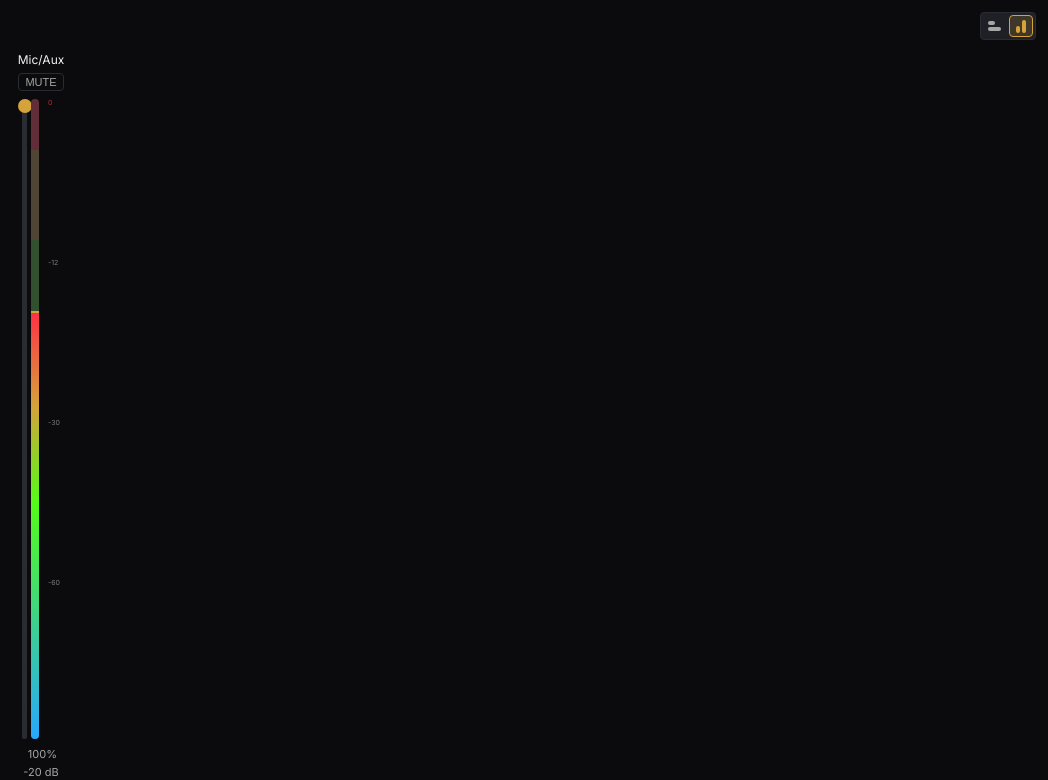
Test: AudioMixer › defaults to vertical faders and switches between vertical and horizontal layouts
Expected: the element named "Mic/Aux vertical meter -20 dB" is shown, [31,99,39,739]
Click the button named "Horizontal audio meters". click: {"x": 995, "y": 26}
box: [983,15,1007,37]
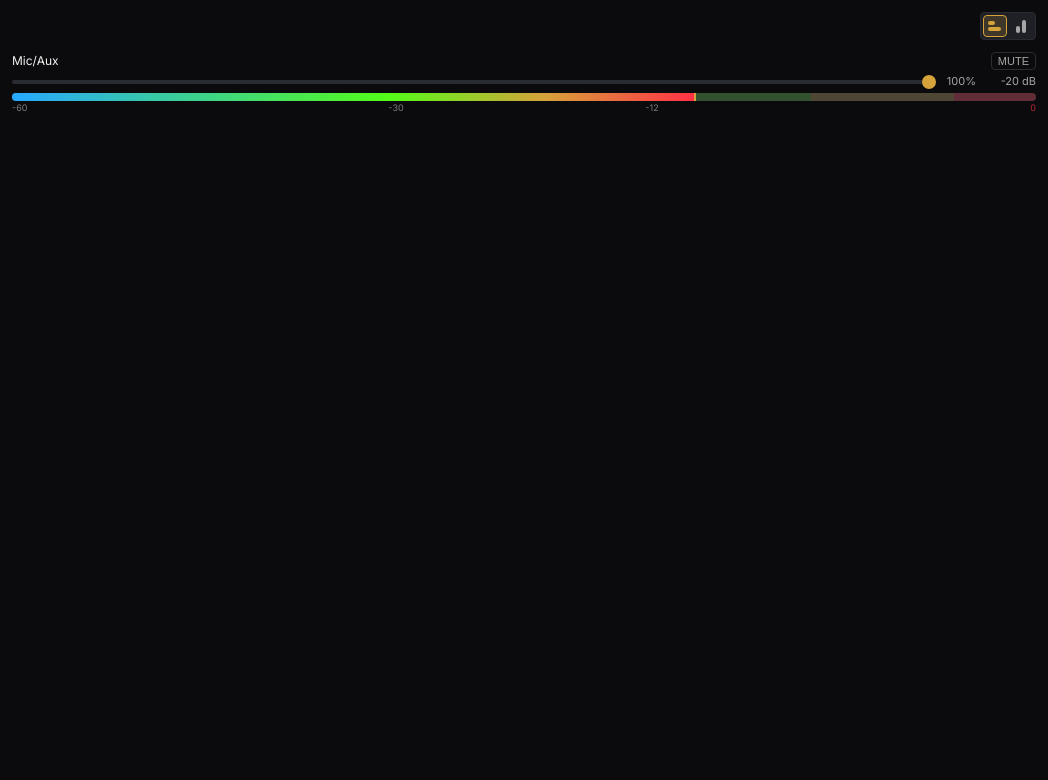
Expected: the element named "Mic/Aux meter -20 dB" is shown, [12,93,1036,101]
